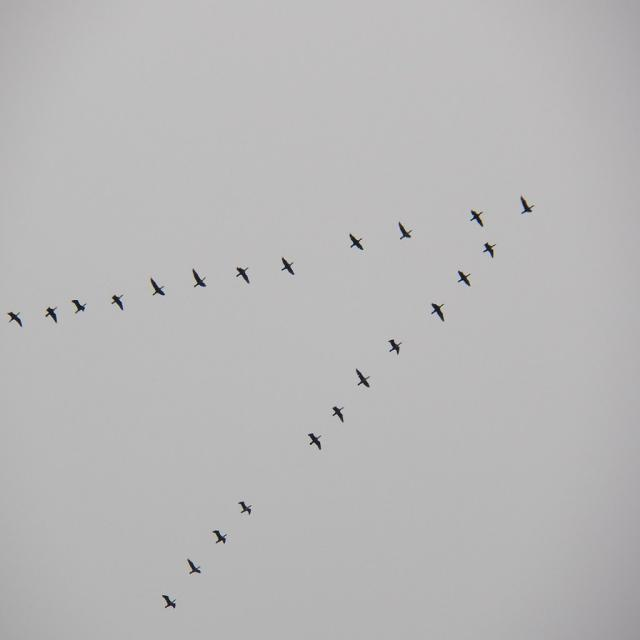bird: (357, 369, 373, 390), (191, 269, 207, 290), (236, 264, 251, 286), (149, 281, 167, 299), (279, 258, 296, 277), (348, 233, 365, 252), (470, 210, 486, 230), (431, 302, 447, 322), (398, 222, 414, 242), (519, 196, 535, 216), (458, 269, 474, 288), (307, 434, 323, 452), (110, 295, 126, 313), (70, 298, 86, 316), (187, 561, 203, 578), (8, 311, 24, 328), (389, 338, 404, 356), (45, 306, 60, 324), (162, 594, 178, 610), (482, 241, 497, 258), (332, 406, 346, 424), (214, 528, 228, 545), (238, 502, 252, 517)
